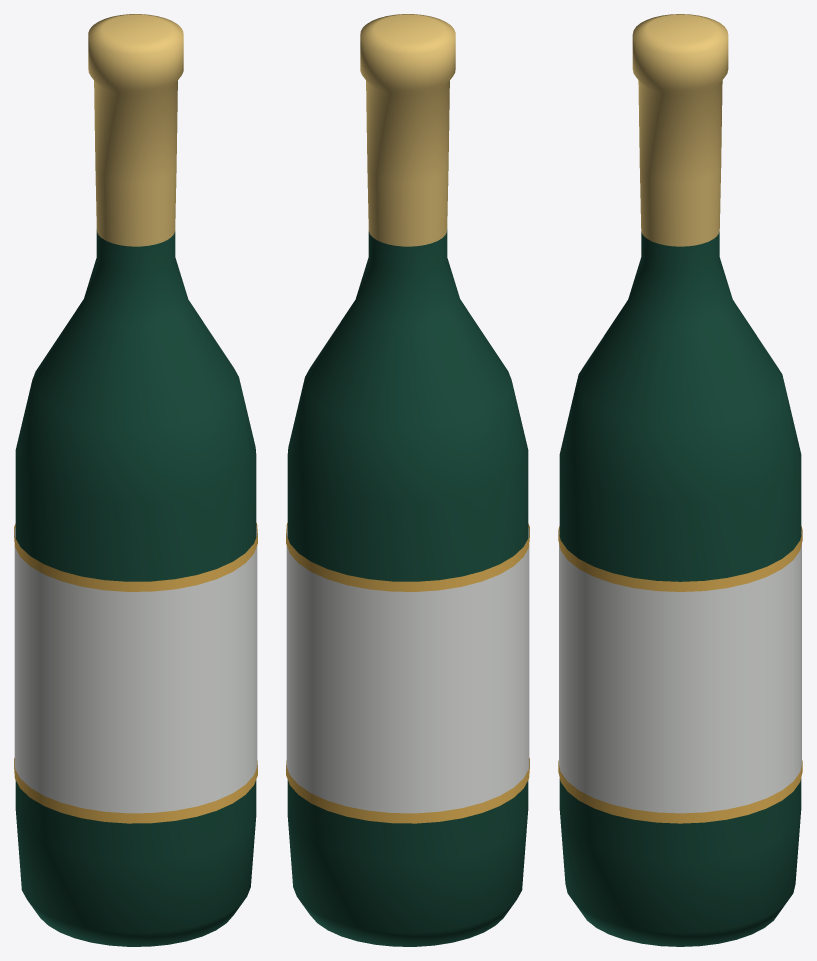
Rendered from champagne.glb.
3 renders of one model, left to right at view 1: azimuth 30°, elevation 25°; view 2: azimuth 150°, elevation 25°; view 3: azimuth 270°, elevation 25°, orthographic.
Parts seen in each view (by area): view 1: champagne / consolidated CC0 mesh; view 2: champagne / consolidated CC0 mesh; view 3: champagne / consolidated CC0 mesh.
Boxes of the visible parts, <box> form: champagne / consolidated CC0 mesh: <box>14,14,257,946</box>; champagne / consolidated CC0 mesh: <box>286,14,529,946</box>; champagne / consolidated CC0 mesh: <box>558,14,802,946</box>.
Size of the model in its own units: 0.087 by 0.344 by 0.087.
